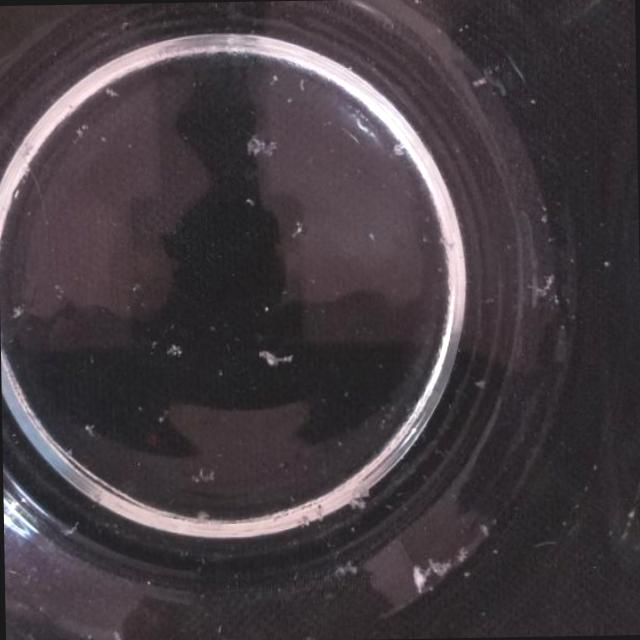fiber: (404, 546, 456, 590), (531, 261, 564, 305), (331, 548, 362, 586), (249, 348, 294, 374), (242, 134, 282, 160), (186, 465, 220, 491), (296, 502, 321, 532), (0, 296, 27, 322), (350, 481, 372, 510), (79, 418, 102, 442), (64, 517, 86, 542), (286, 208, 302, 239), (110, 617, 131, 640), (160, 343, 184, 360), (246, 189, 260, 207)
